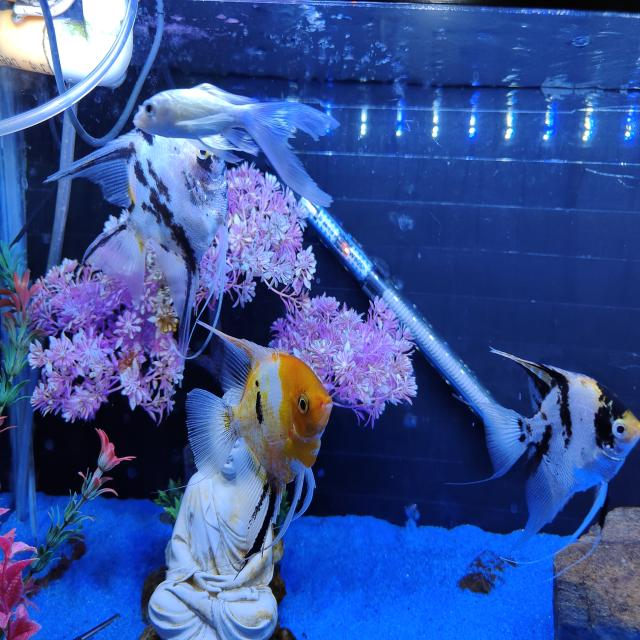Fish: (45, 130, 226, 356), (186, 330, 331, 558), (482, 350, 639, 550), (133, 84, 338, 206)
